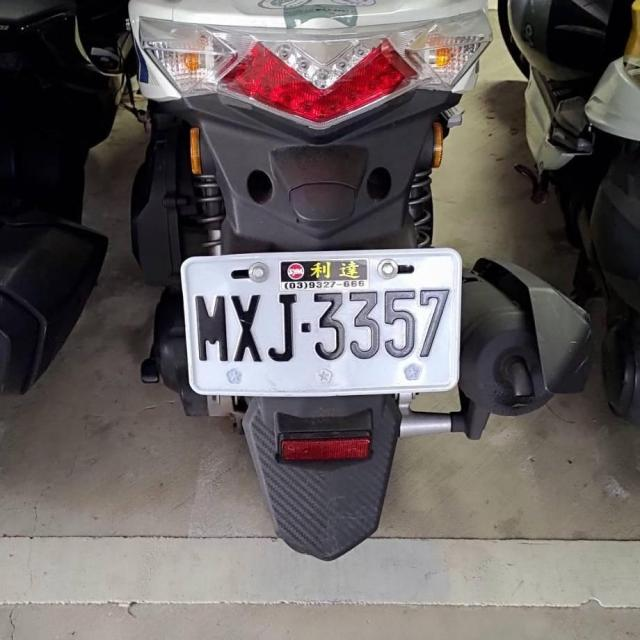W: (179, 246, 460, 398)
